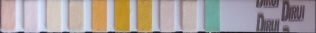color 1: (1, 1, 16, 32)
color 10: (204, 1, 220, 31)
color 2: (23, 1, 37, 32)
color 3: (47, 1, 60, 31)
color 4: (69, 1, 83, 31)
color 5: (91, 1, 106, 31)
color 6: (115, 1, 129, 31)
color 7: (137, 1, 151, 31)
color 8: (160, 1, 173, 31)
color 9: (182, 1, 196, 31)
